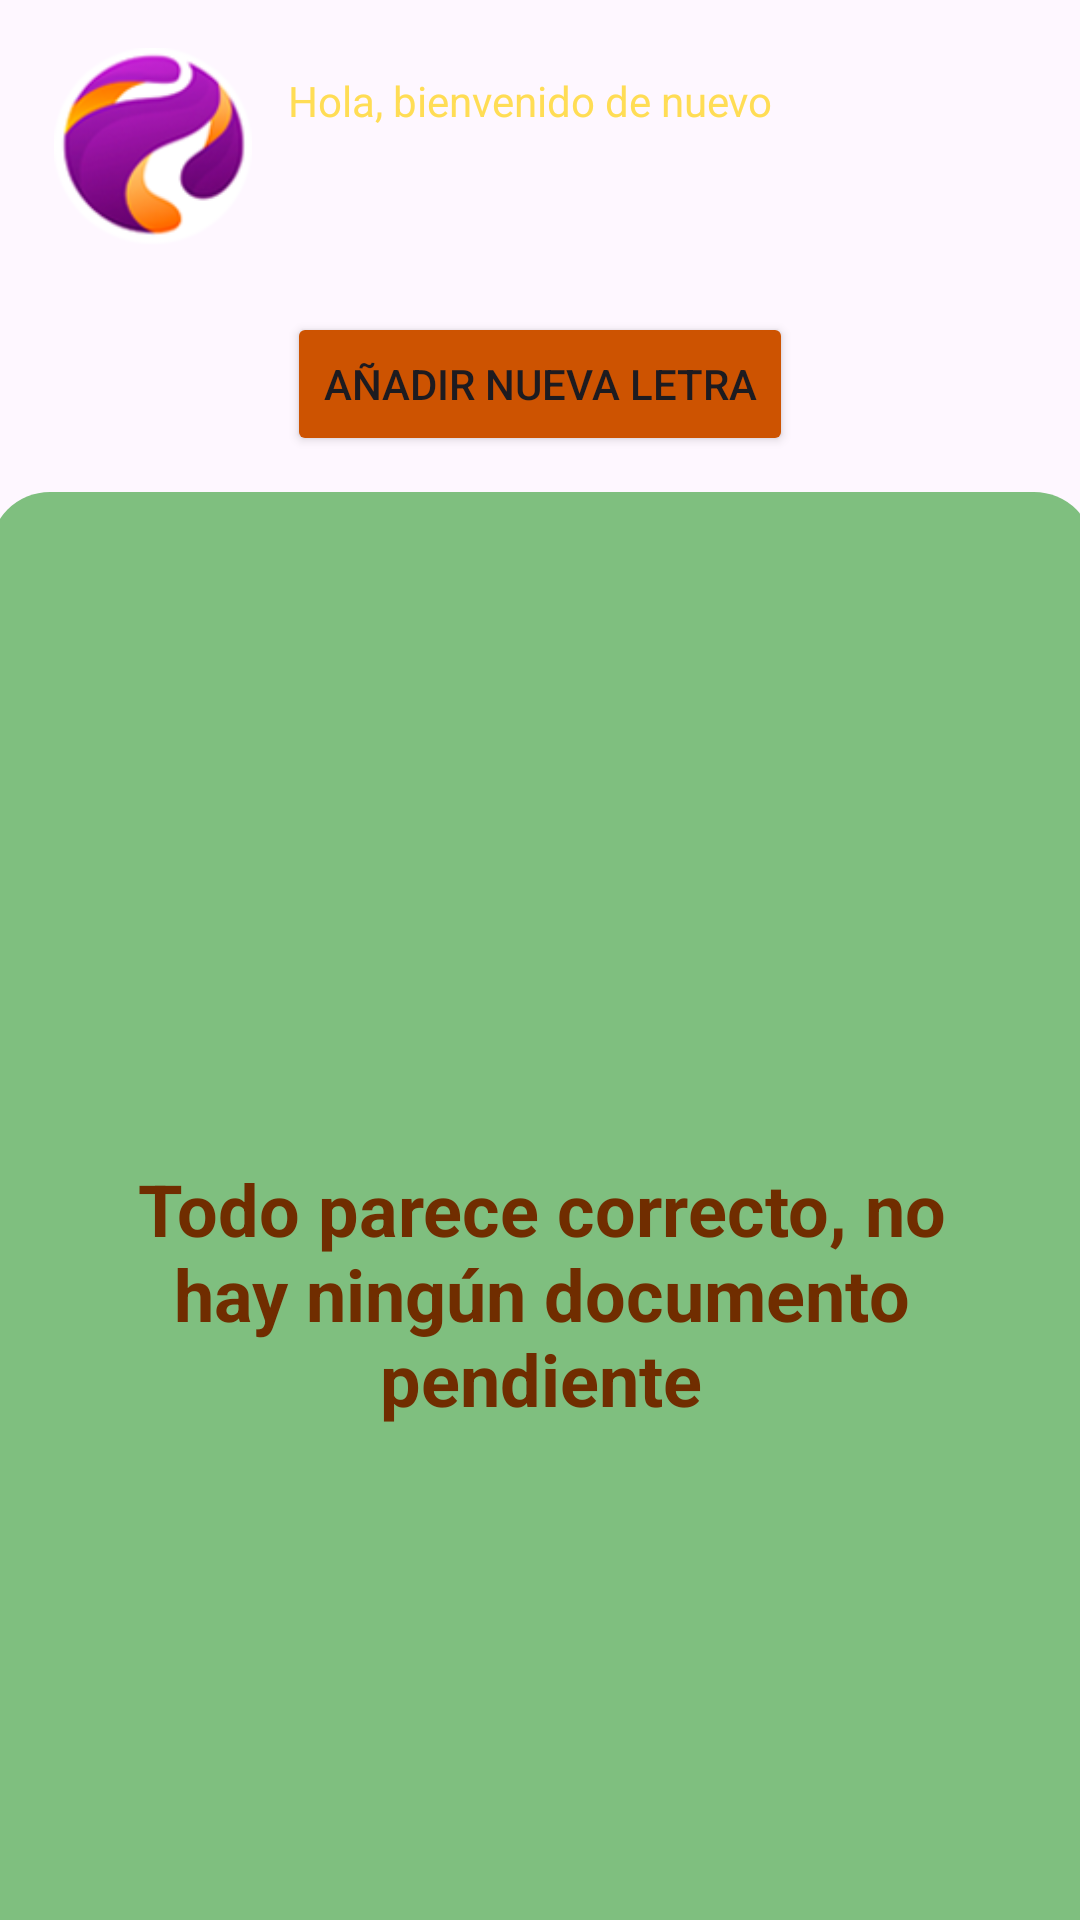

Icons on this 1080px x 1920px Android screen, each with its box as (x1, y1, x2, y2):
generic company: (63, 55, 245, 235)
